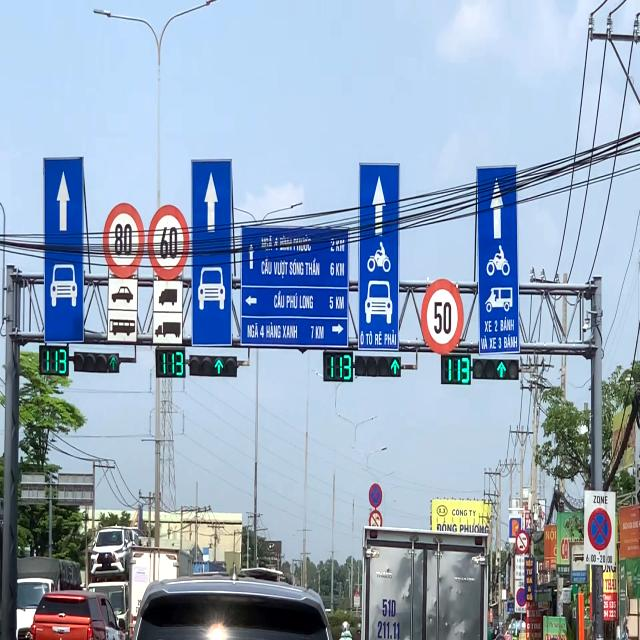P.127: (421, 278, 464, 353), (102, 203, 146, 276), (147, 204, 189, 278)
P.130: (586, 506, 613, 553), (368, 482, 383, 509)
